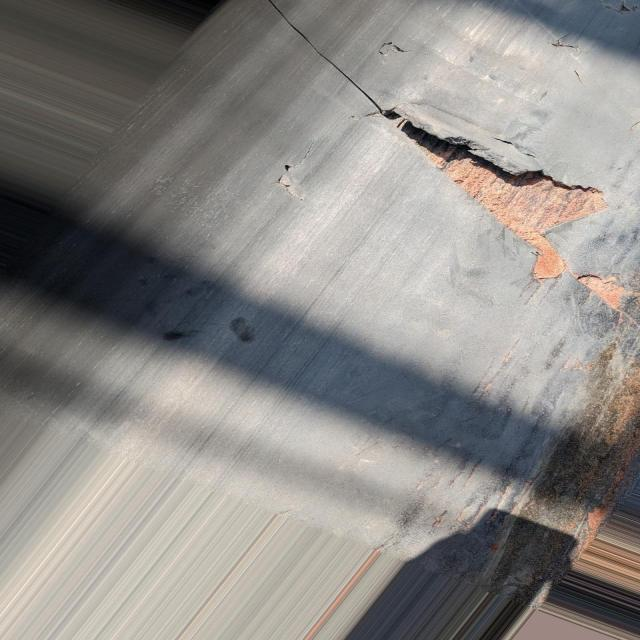Tear: (261, 0, 640, 325), (268, 167, 319, 208), (598, 0, 640, 18), (372, 36, 408, 56), (549, 32, 580, 52)
